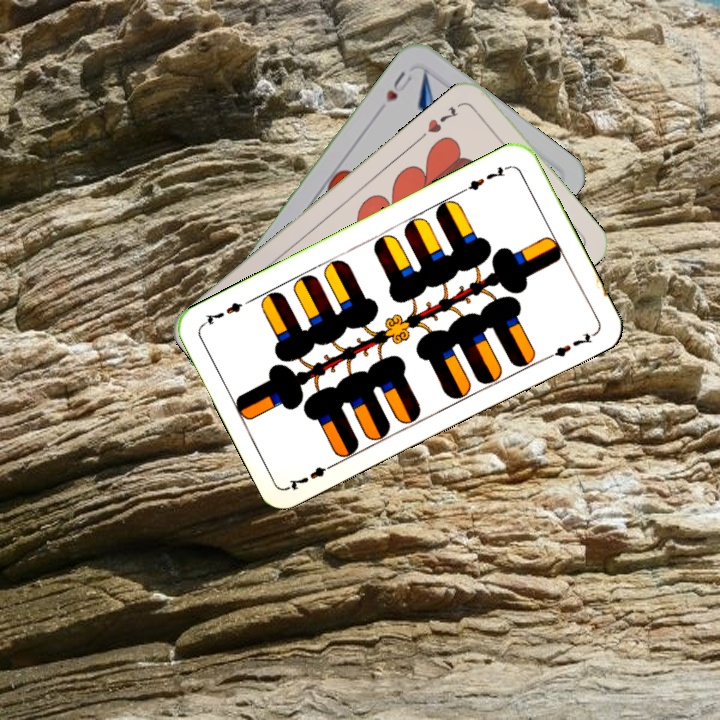E7: (285, 458, 340, 493), (458, 161, 513, 195)
H7: (423, 102, 462, 136)
HU: (381, 67, 415, 105)
